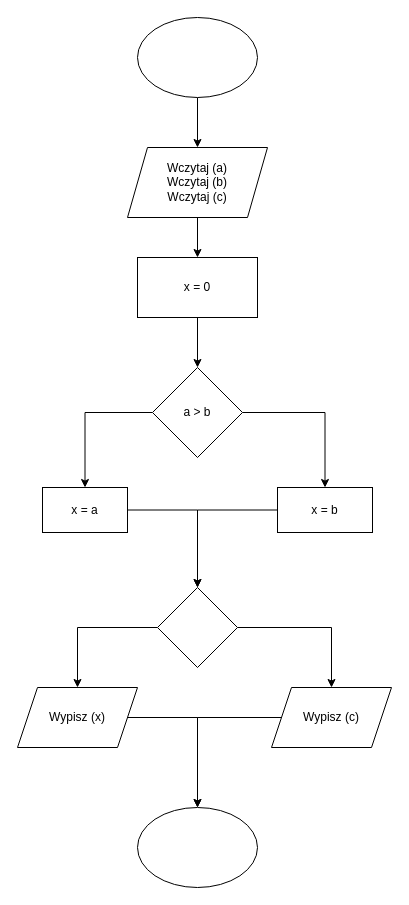
The diagram is 409 pixels wide and 905 high, and some of its shapes have lost their labels. The centre of each missing label's shape, as x and y in pixels:
"START" goes at point (197, 57).
"STOP" goes at point (197, 847).
"x > c" goes at point (197, 627).
